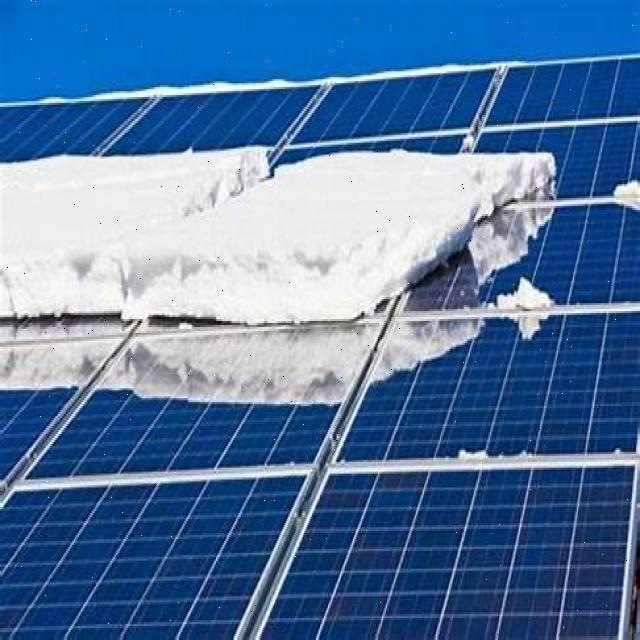Anomaly Solar Panel: (0, 54, 638, 639)
Snow: (0, 142, 555, 328), (480, 274, 556, 312), (615, 179, 638, 194)
